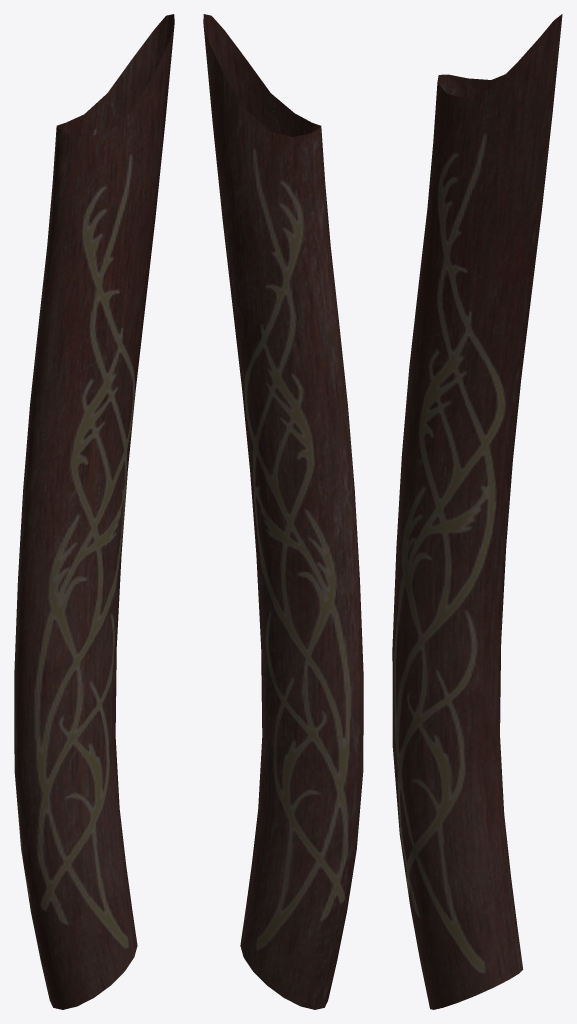
Rendered from wm_rivendell_sword_a02_handle.fbx.
The picture shows the model from 3 angles, left to right: view 1: azimuth 30°, elevation 25°; view 2: azimuth 150°, elevation 25°; view 3: azimuth 330°, elevation 25°; orthographic projection. The views are drawn at different scales.
Visible parts, largest first — view 1: wm_rivendell_sword_a02_handle; view 2: wm_rivendell_sword_a02_handle; view 3: wm_rivendell_sword_a02_handle.
Boxes of the visible parts, x1,y1,x2,y2 form: wm_rivendell_sword_a02_handle: [14, 14, 174, 1009]; wm_rivendell_sword_a02_handle: [203, 14, 363, 1009]; wm_rivendell_sword_a02_handle: [392, 14, 562, 1009].
Bounding box in the file's own units: 0.062 × 0.0249 × 0.3647.
Materials: 1 (1 with a texture image).
